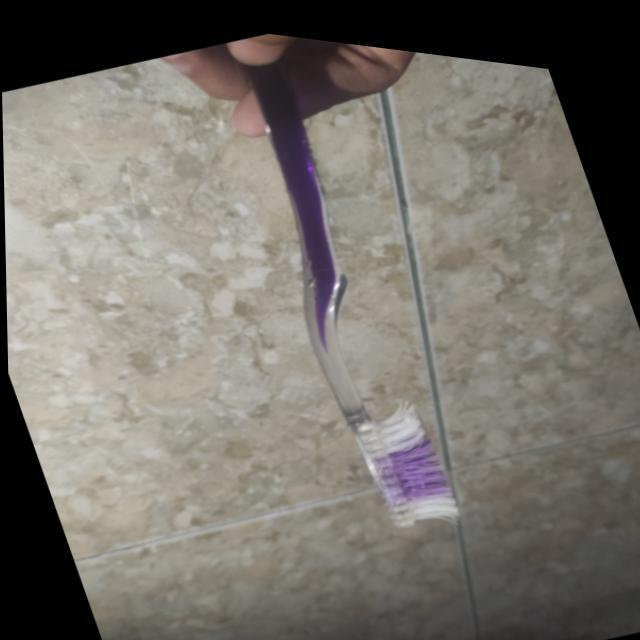toothbrush: (192, 18, 488, 550)
